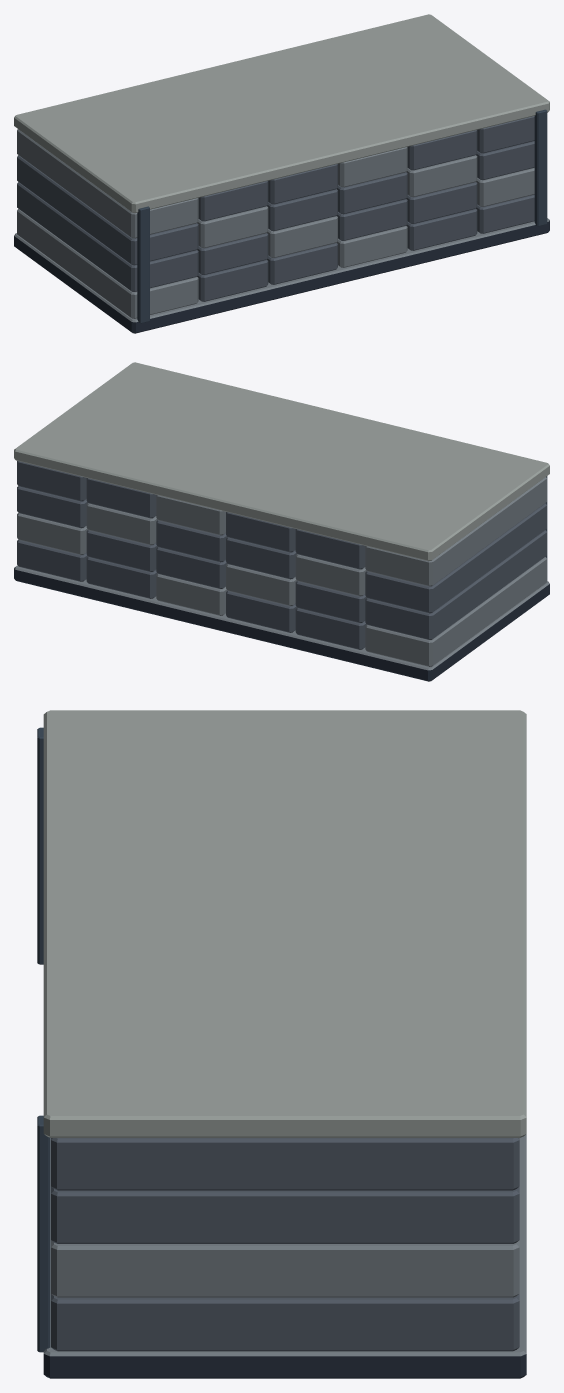
Rendered from platform-wide.glb.
3 renders of one model, top to bottom at view 1: azimuth 30°, elevation 25°; view 2: azimuth 150°, elevation 25°; view 3: azimuth 270°, elevation 25°, orthographic. The views are drawn at different scales.
Visible parts, largest first — view 1: platform-wide__body; view 2: platform-wide__body; view 3: platform-wide__body.
Part boxes in pixels (left/top/right/bottom): platform-wide__body: left=14, top=14, right=549, bottom=333; platform-wide__body: left=14, top=362, right=549, bottom=681; platform-wide__body: left=37, top=710, right=526, bottom=1378.
Bounding box in the file's own units: 4 × 1.2 × 2.03.
